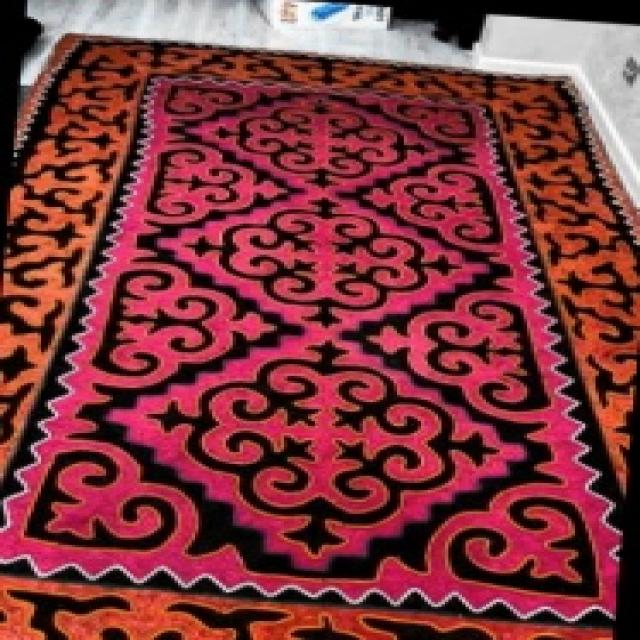Unity: (138, 330, 509, 557), (171, 197, 480, 330), (199, 98, 442, 186)
